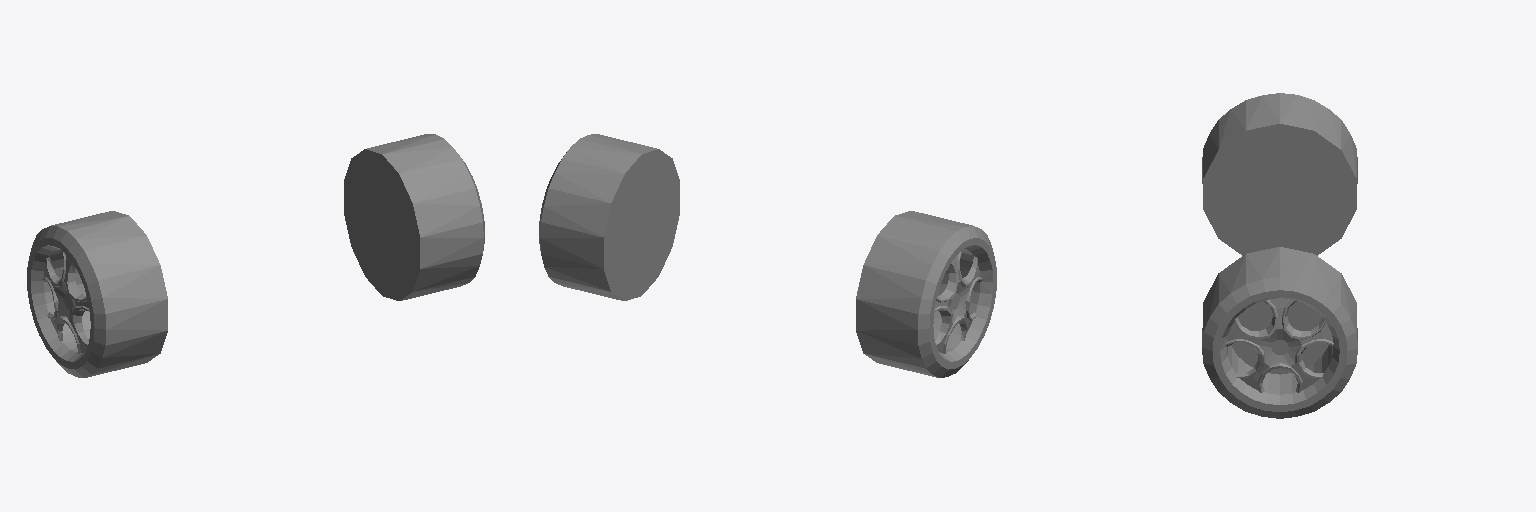
The model's file is murciwheels.obj.
3 views of the same model, side by side, from view 1: azimuth 30°, elevation 25°; view 2: azimuth 150°, elevation 25°; view 3: azimuth 270°, elevation 25° (orthographic).
Parts seen in each view (by area): view 1: WhFL02, WhFr02; view 2: WhFL02, WhFr02; view 3: WhFL02, WhFr02.
Part boxes in pixels (x1,y1,x2,y2): WhFL02: (344, 134, 484, 300); WhFr02: (27, 211, 167, 377); WhFL02: (539, 134, 679, 300); WhFr02: (856, 211, 996, 377); WhFL02: (1202, 247, 1357, 418); WhFr02: (1202, 93, 1357, 255).
Bounding box in the file's own units: 1.81 × 0.6287 × 0.6287.